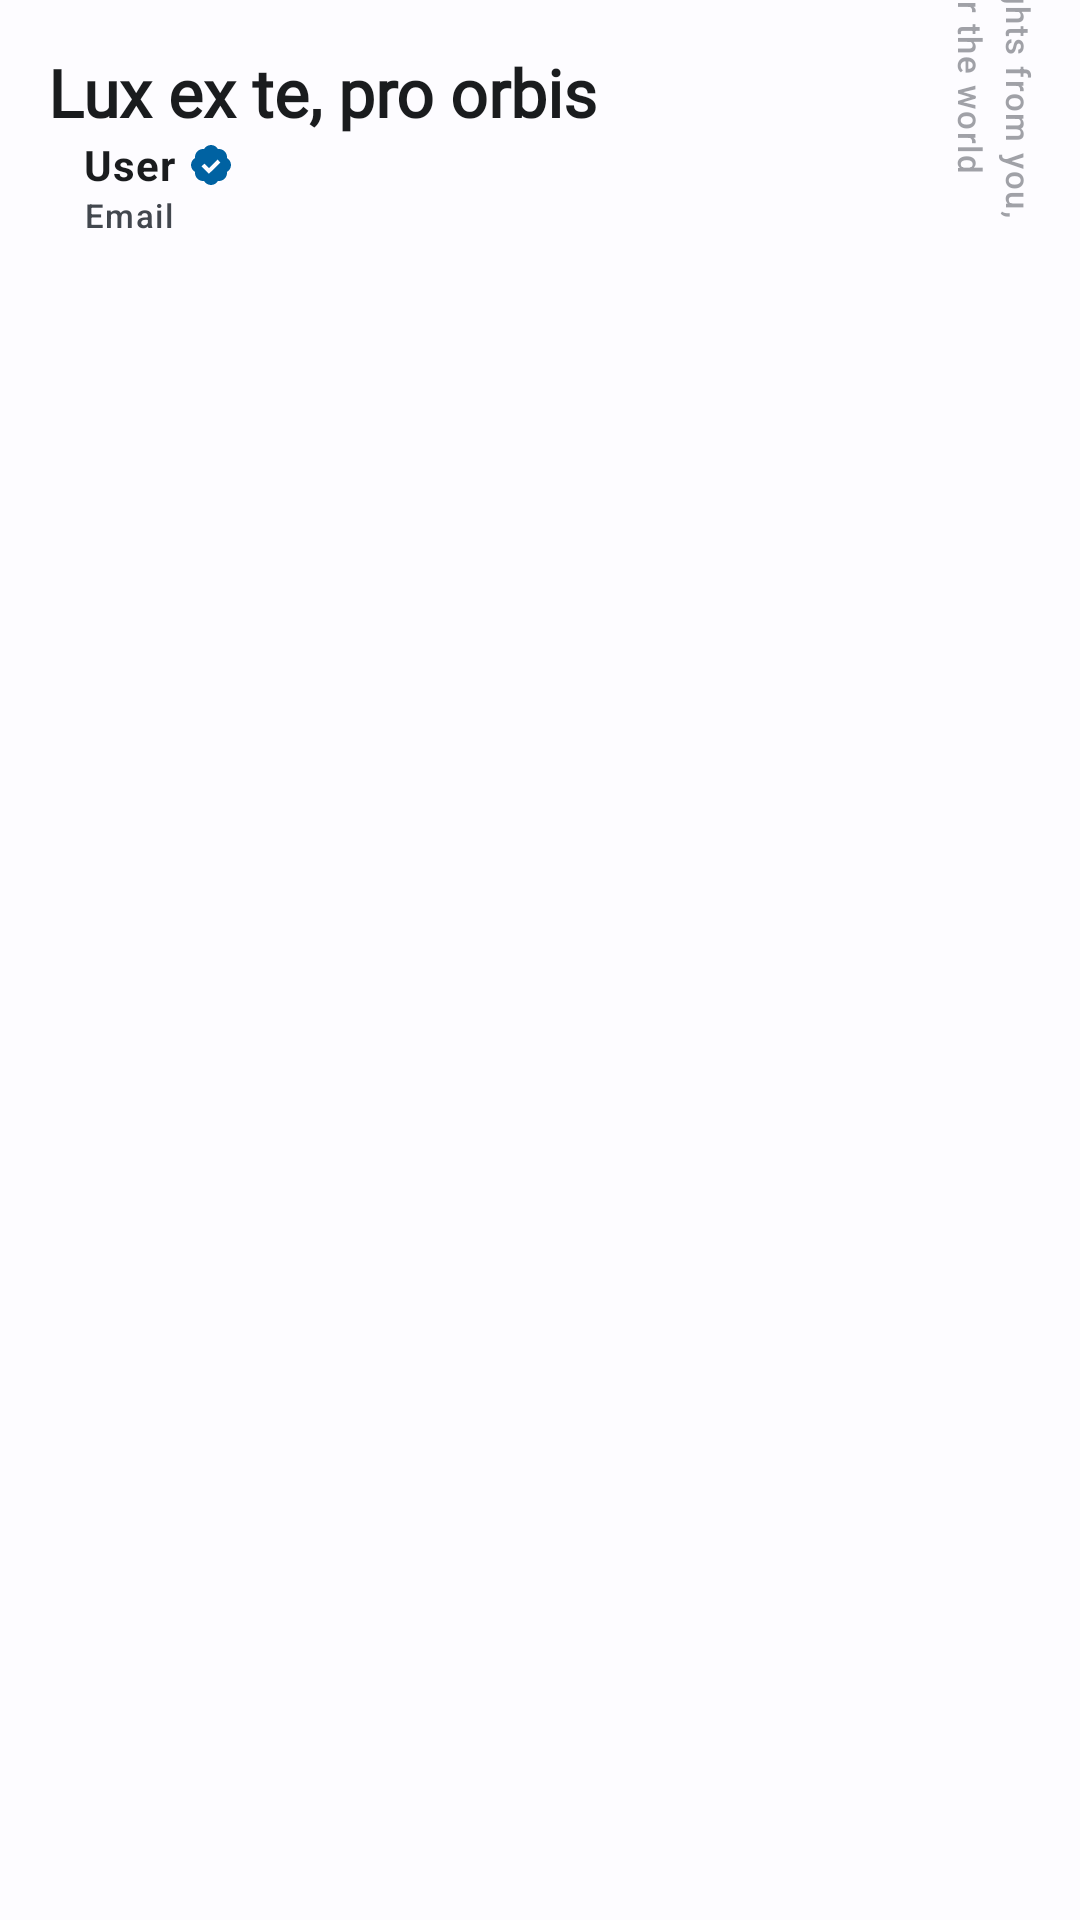

Locate icon controls on the screen. Image size 1080 × 1920, boxes as (x1=x1, y1=y1, x2=x2, y2=y2).
bxs badge check: (x1=191, y1=145, x2=231, y2=185)
